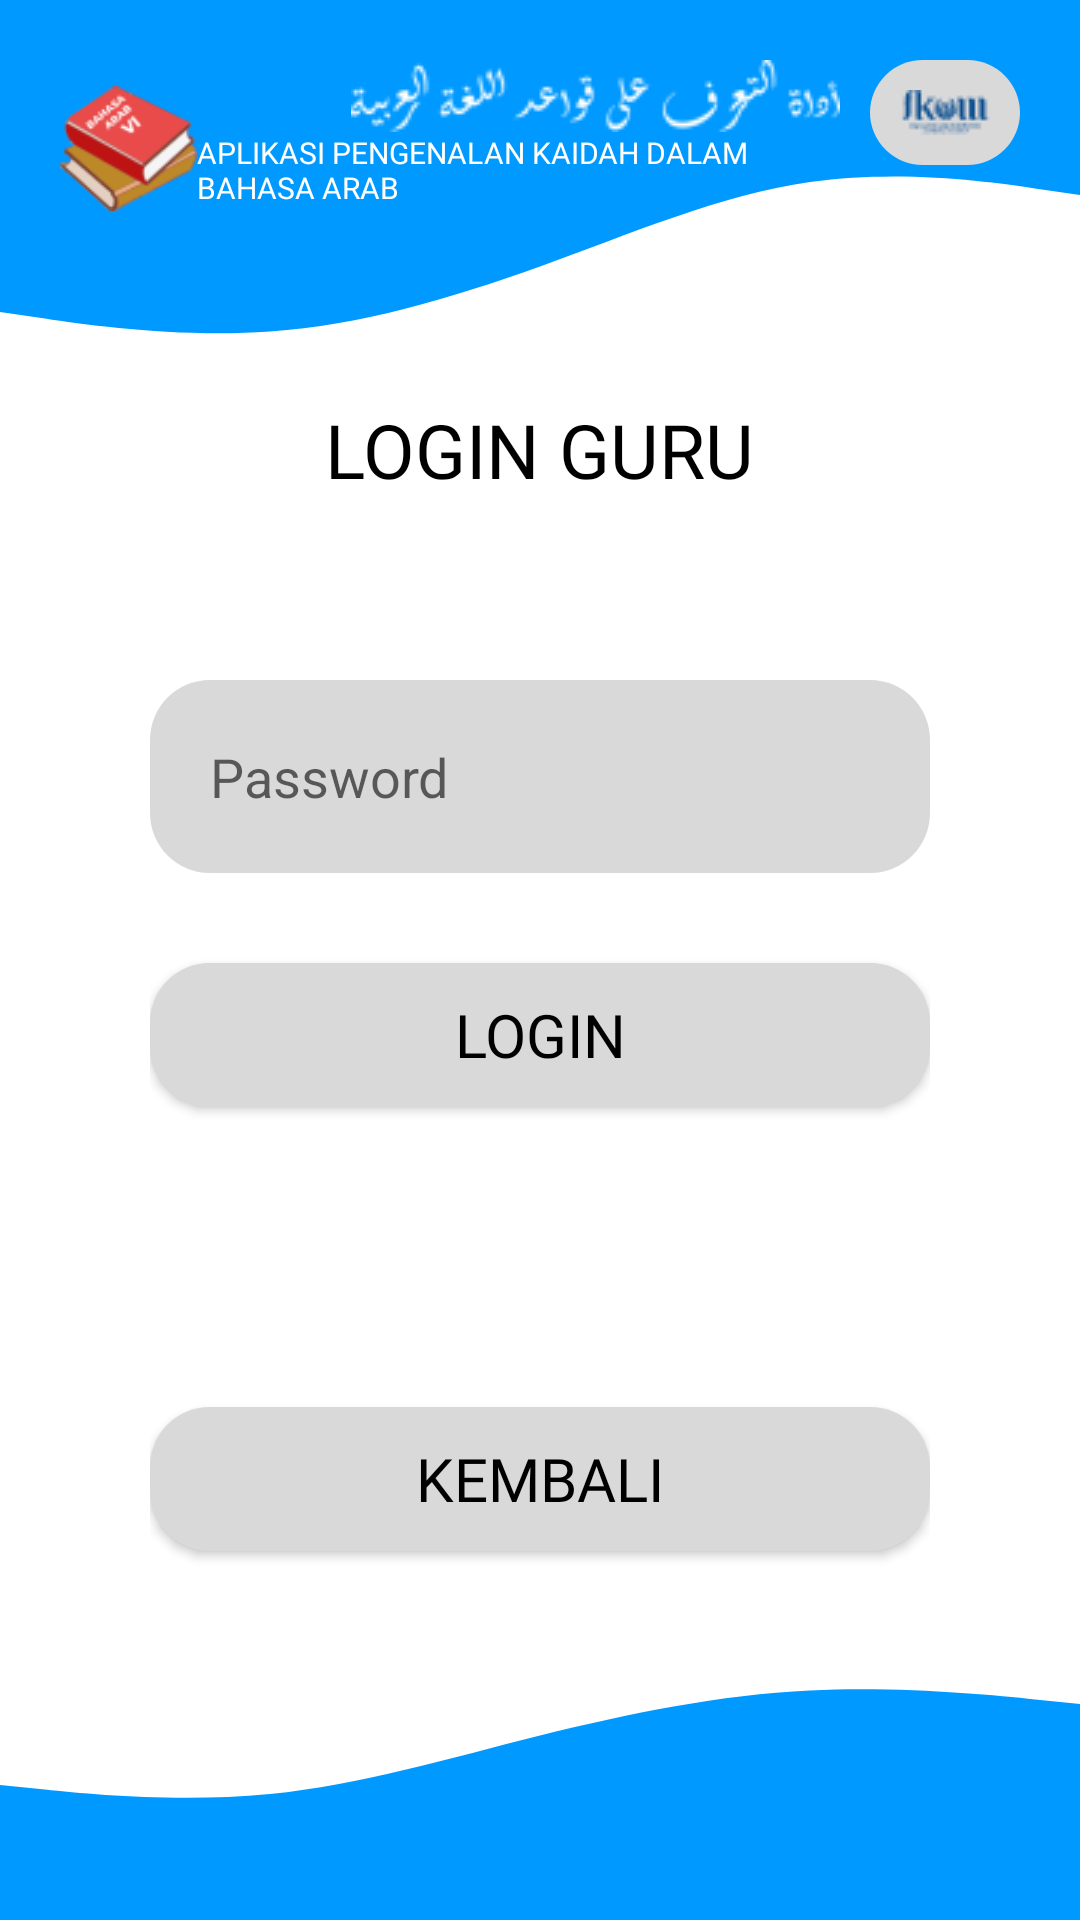

Where to tap for icons on this 1080px x 1920px app screen, as (x,y):
buku: (128,148)
